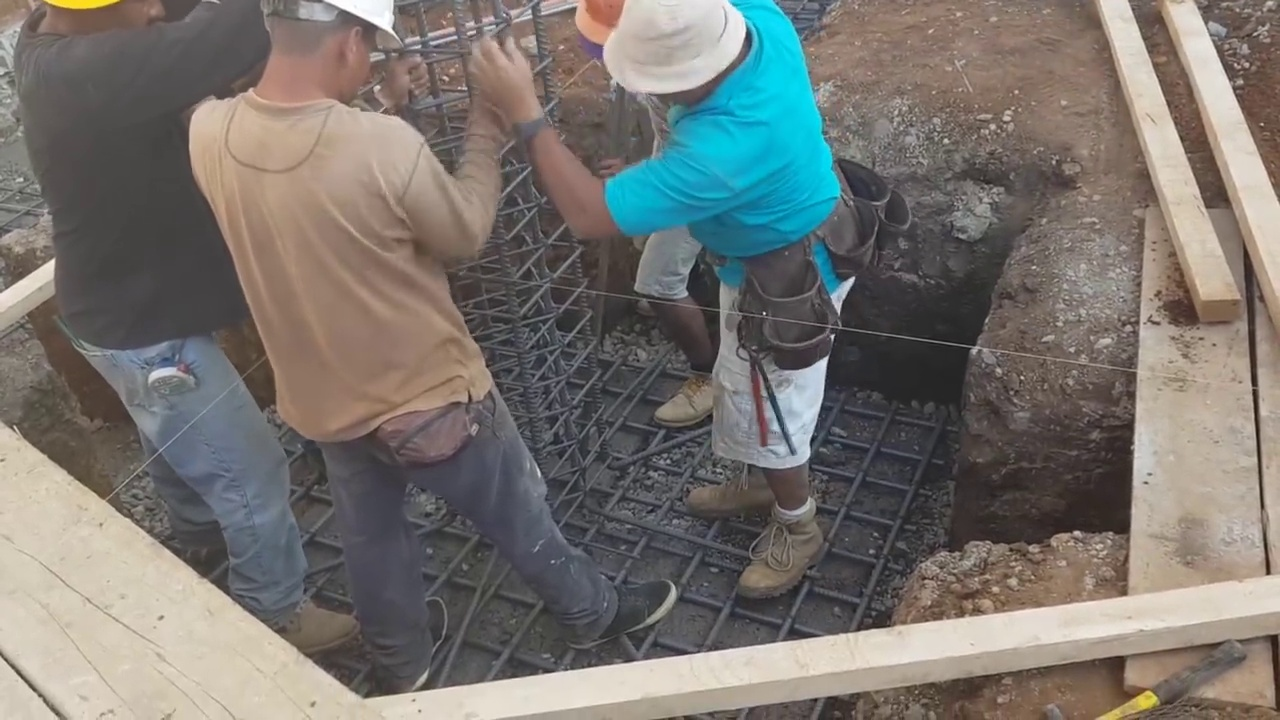helmet: (261, 0, 406, 55)
helmet-off: (574, 0, 761, 116)
helmet-on: (252, 3, 406, 109), (21, 0, 166, 44), (574, 1, 623, 66)
person: (190, 6, 685, 699), (462, 8, 849, 608), (12, 0, 357, 651)
